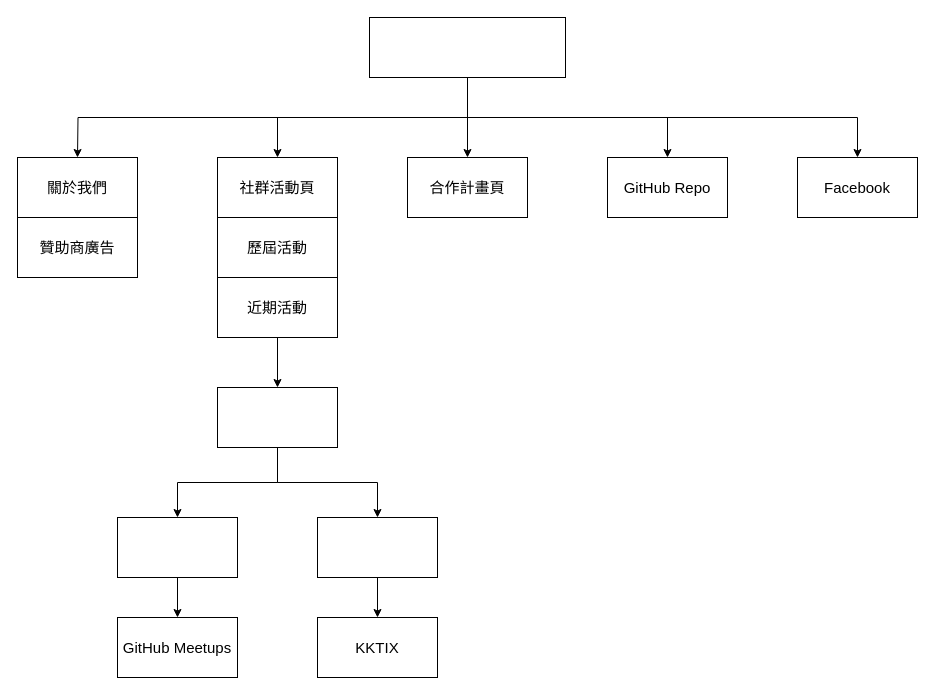
Some shapes in this 935 by 695 pixel diagram are drawn without their labels. The box of each missing label's shape, as (x1, y1, x2, y2) in pixels:
活動報名: (316, 516, 438, 578)
活動資訊: (116, 516, 238, 578)
活動資訊頁: (216, 386, 338, 448)
首頁: (368, 16, 566, 78)
